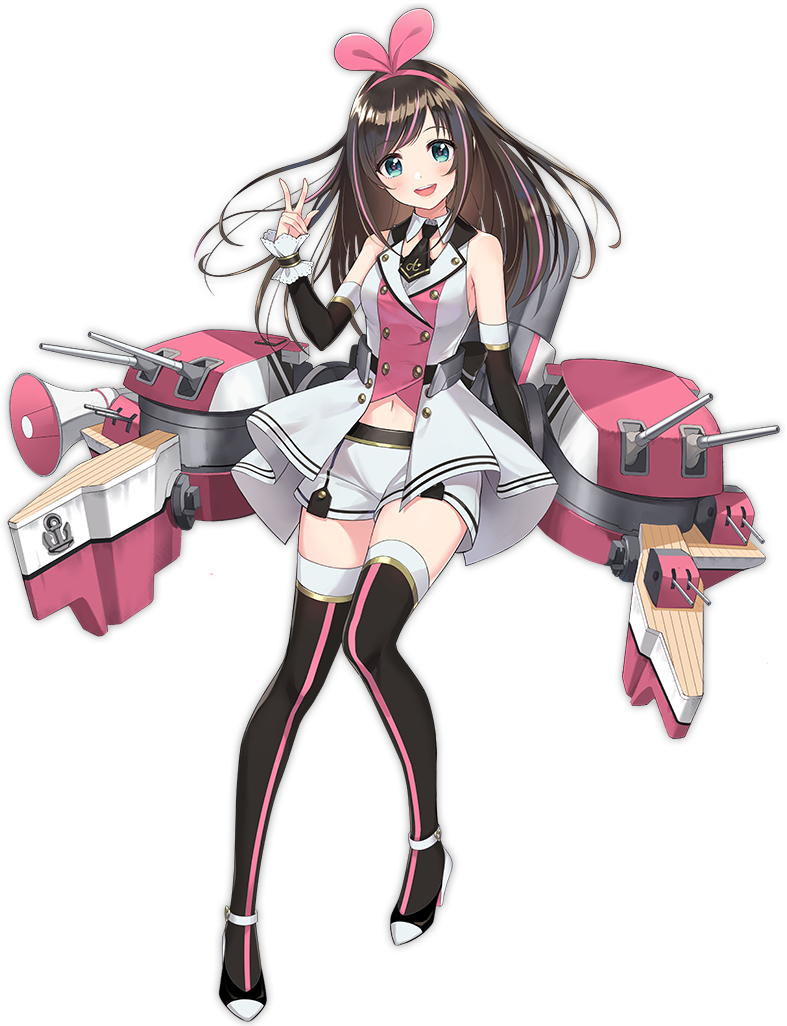person: (113, 60, 664, 743)
